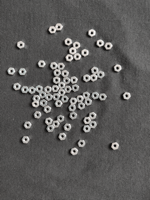nut: (49, 26, 57, 34), (17, 41, 25, 49), (69, 47, 77, 55), (66, 54, 74, 62), (38, 60, 46, 68), (50, 62, 58, 70), (63, 77, 71, 85), (58, 82, 66, 90), (13, 83, 21, 91), (21, 86, 29, 94), (92, 92, 100, 100), (89, 112, 97, 120), (84, 117, 92, 125), (89, 121, 97, 129), (83, 125, 91, 133), (59, 133, 67, 141), (78, 140, 86, 148), (7, 68, 16, 75), (55, 24, 63, 31), (89, 29, 96, 37), (65, 38, 72, 46), (105, 43, 113, 50), (74, 42, 81, 50), (82, 49, 89, 57), (74, 53, 81, 61), (92, 67, 99, 75), (98, 71, 105, 79), (91, 74, 98, 82), (83, 75, 91, 82), (54, 69, 61, 77), (62, 70, 69, 78), (53, 77, 61, 84), (36, 85, 43, 93), (45, 86, 52, 94), (45, 94, 53, 101), (39, 91, 46, 99), (33, 95, 41, 102), (32, 101, 40, 108), (40, 100, 48, 107), (99, 94, 107, 101), (83, 92, 90, 100), (78, 103, 86, 110), (61, 96, 69, 103), (44, 106, 51, 114), (34, 112, 42, 119), (24, 122, 32, 129), (22, 137, 30, 144), (70, 112, 77, 120), (57, 115, 64, 123), (45, 118, 53, 125), (52, 121, 60, 128), (47, 125, 55, 132), (112, 143, 120, 150), (64, 124, 72, 131), (71, 148, 78, 156), (97, 40, 104, 47), (115, 65, 122, 72), (58, 63, 65, 70), (71, 77, 78, 84), (29, 87, 36, 94), (52, 85, 59, 92), (65, 86, 72, 93), (72, 85, 79, 92), (53, 94, 60, 101), (124, 93, 131, 100), (77, 96, 84, 103), (85, 99, 92, 106), (70, 98, 77, 105), (69, 105, 76, 112), (19, 69, 27, 75), (58, 90, 66, 96), (55, 101, 63, 107)
